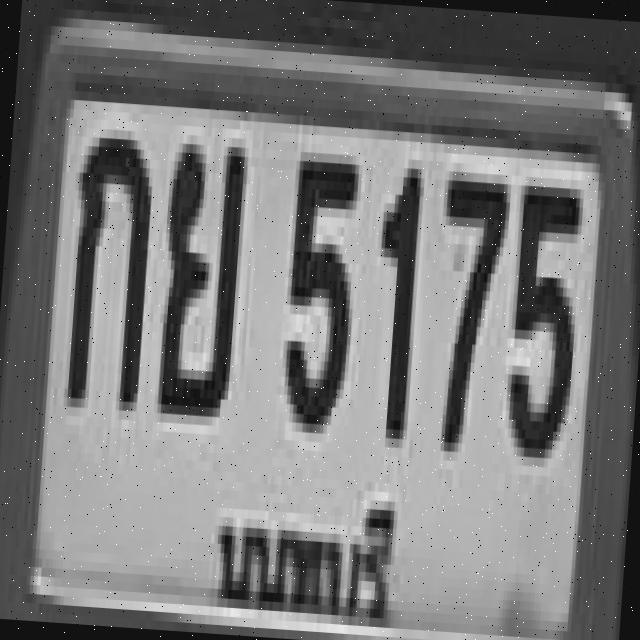1: (364, 158, 418, 438)
10GorGai: (64, 127, 152, 402)
43YorYak: (154, 134, 245, 408)
5: (278, 142, 356, 425), (500, 176, 580, 450)
7: (427, 162, 505, 444)
Nonthaburi: (202, 463, 403, 640)
